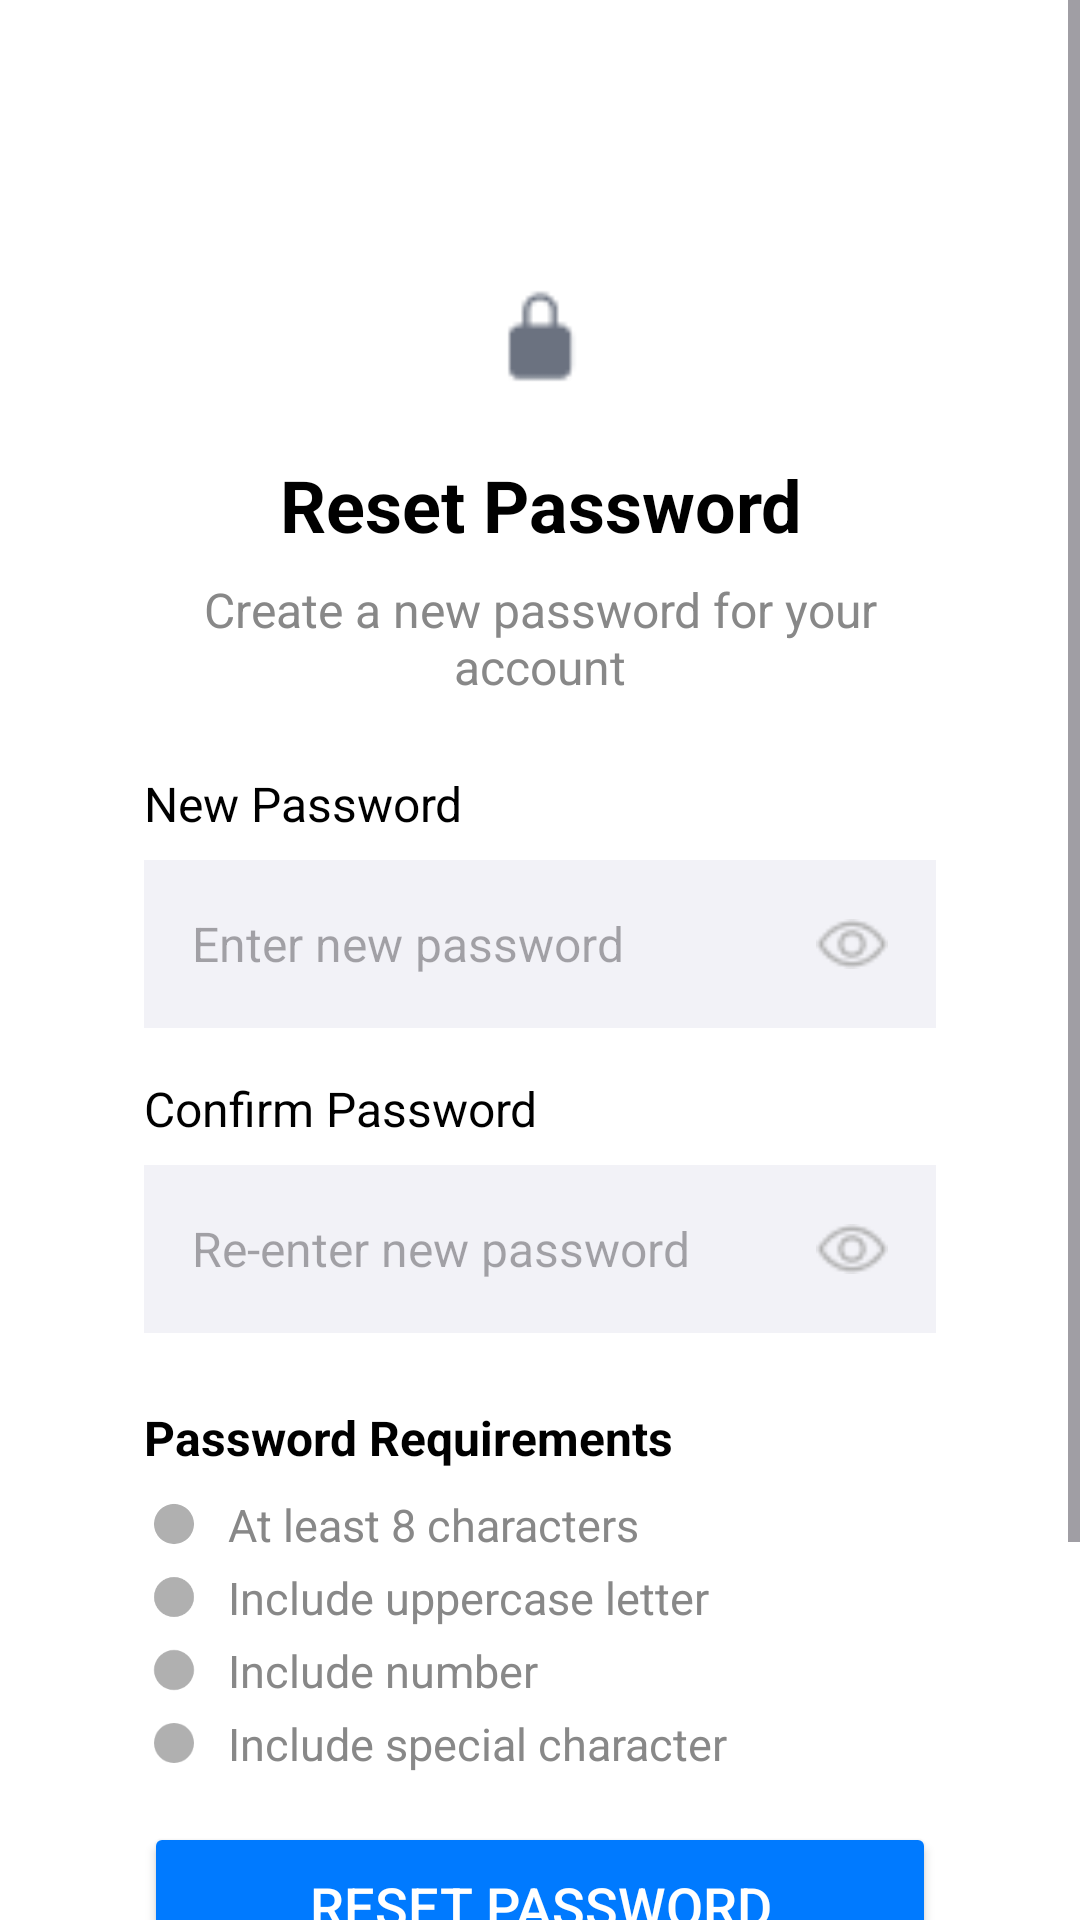

Where to tap for icons on this 1080x1920 app screen, as [x,y]:
Lock Icon: [540,336]
Show Password: [852,944], [852,1249]
